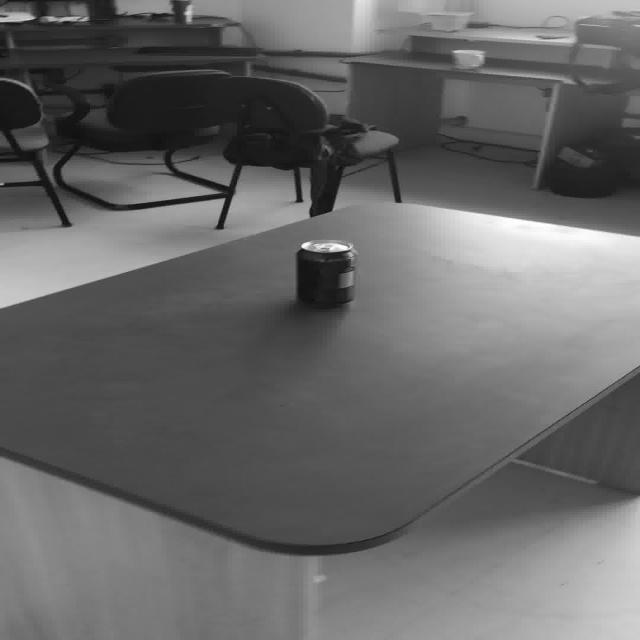tonic: (294, 238, 357, 305), (171, 0, 193, 24)
